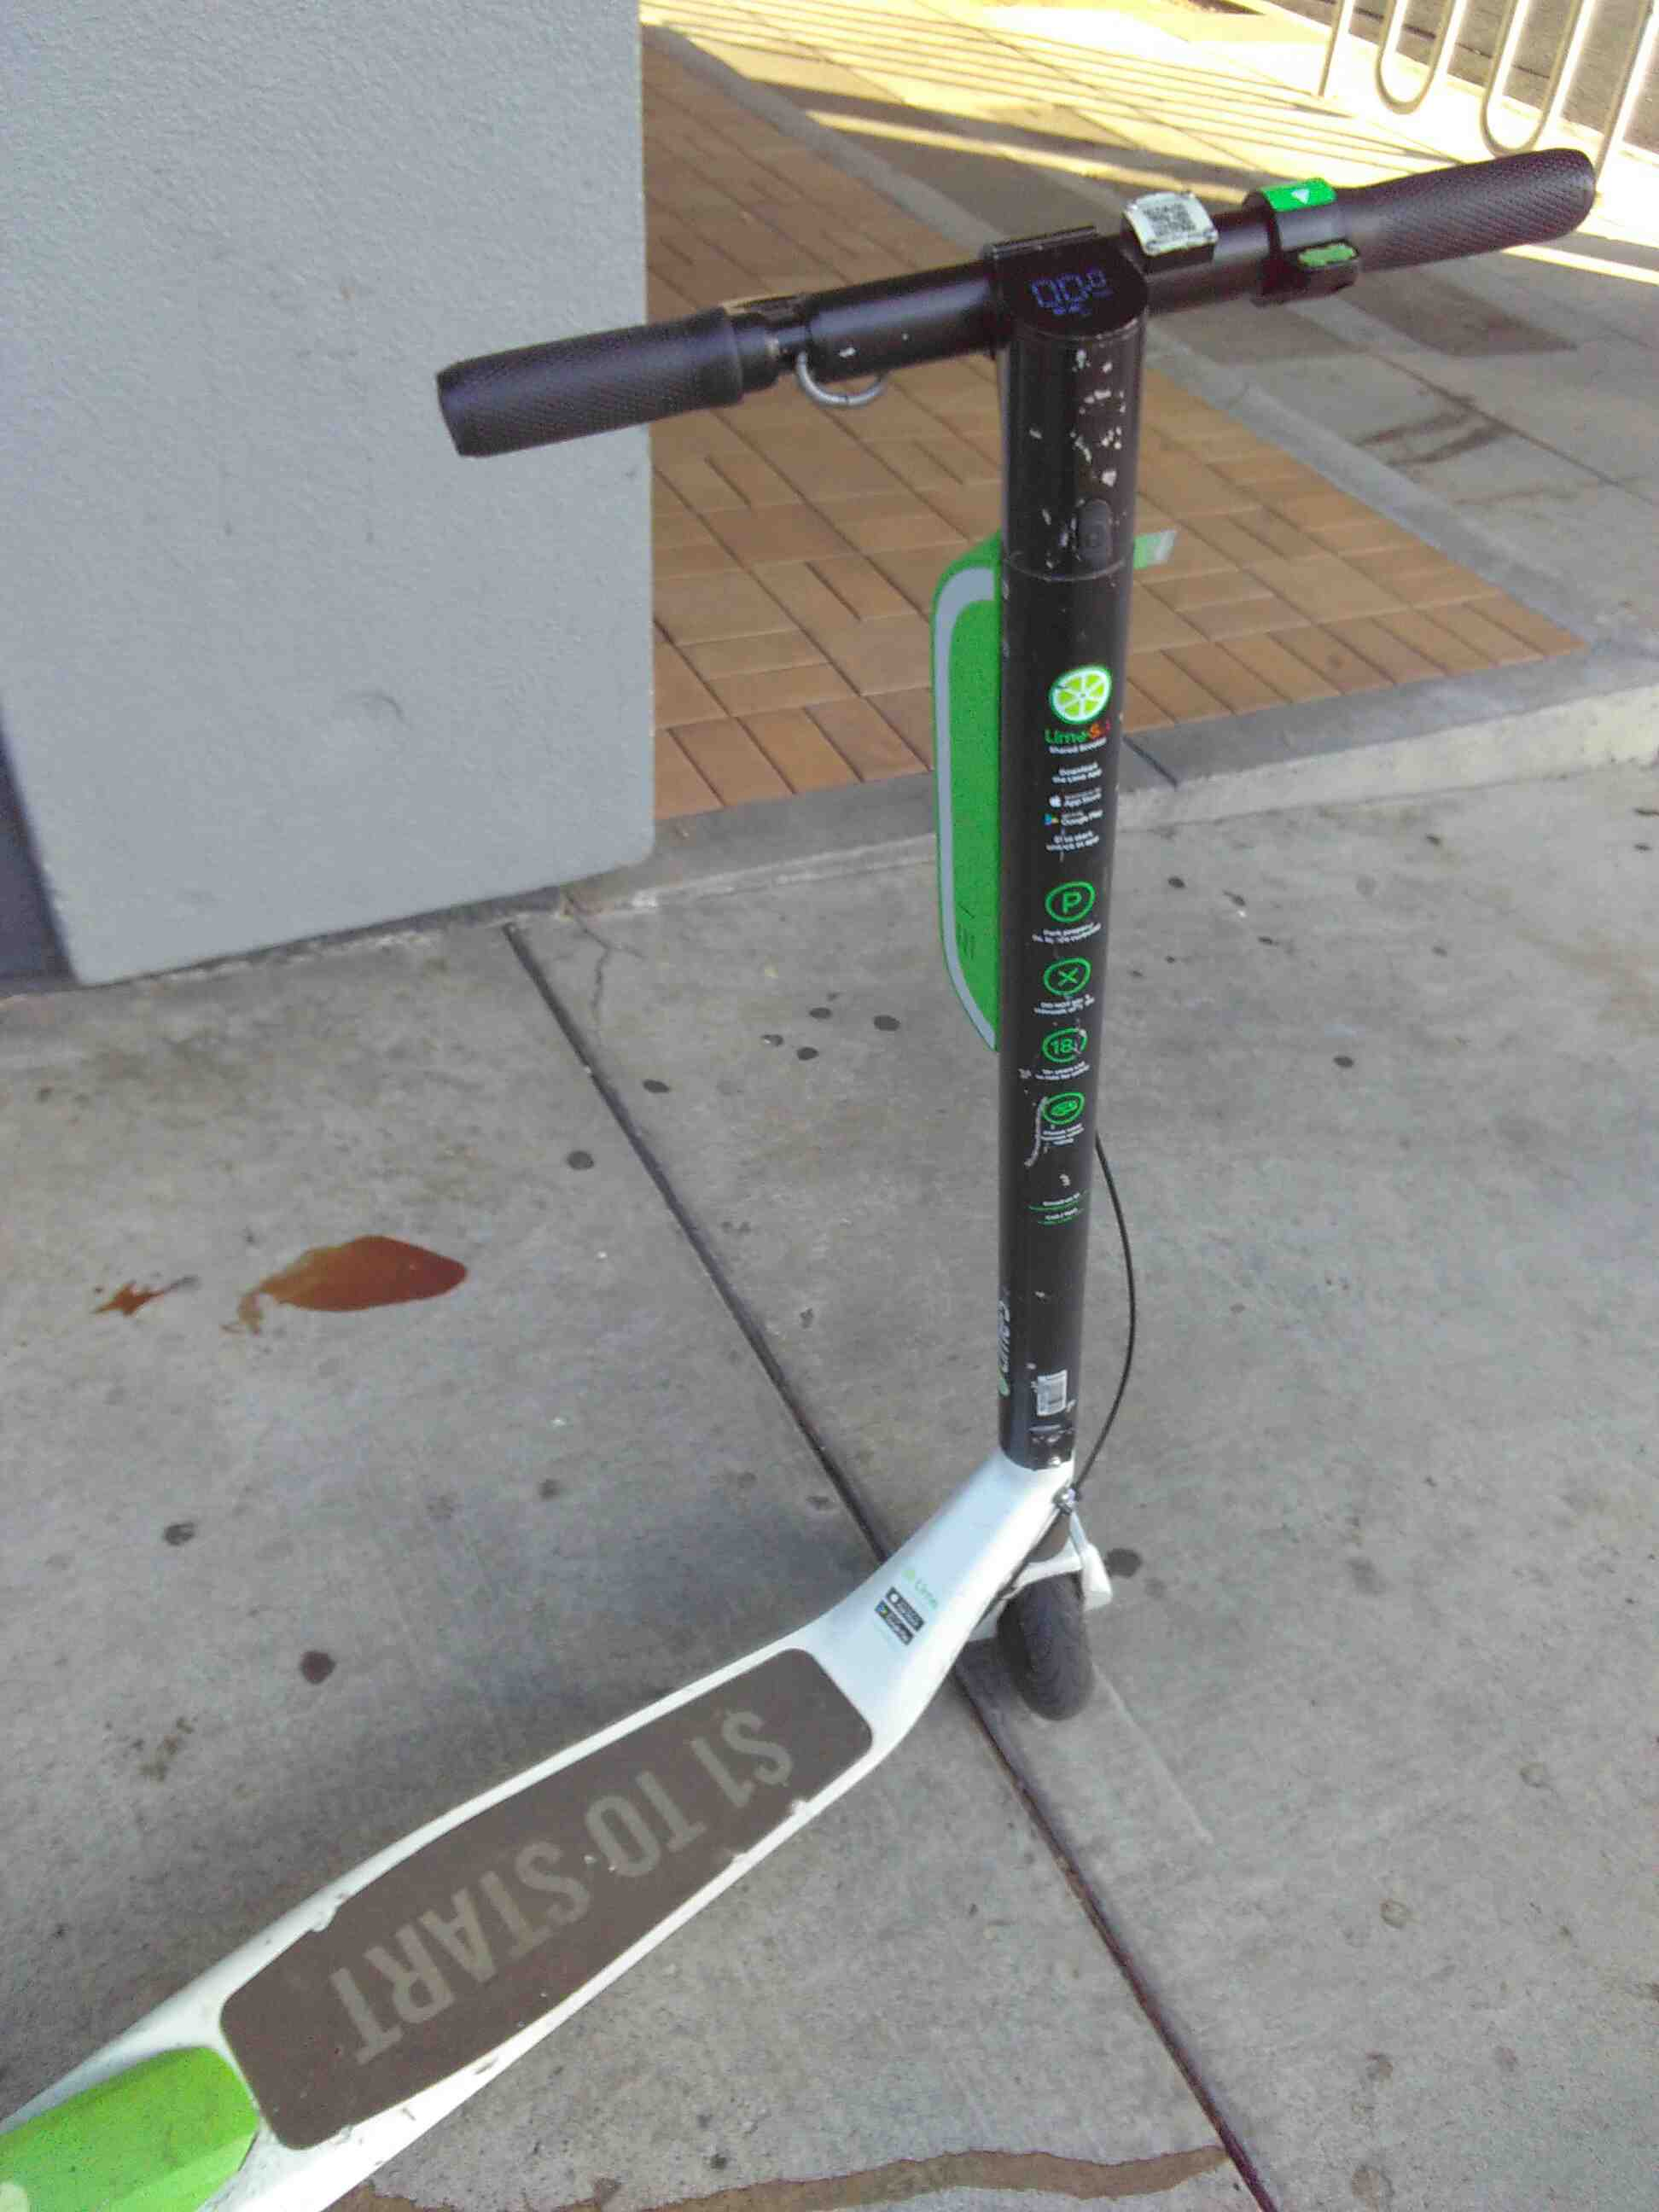scooter: (24, 141, 1610, 2212)
